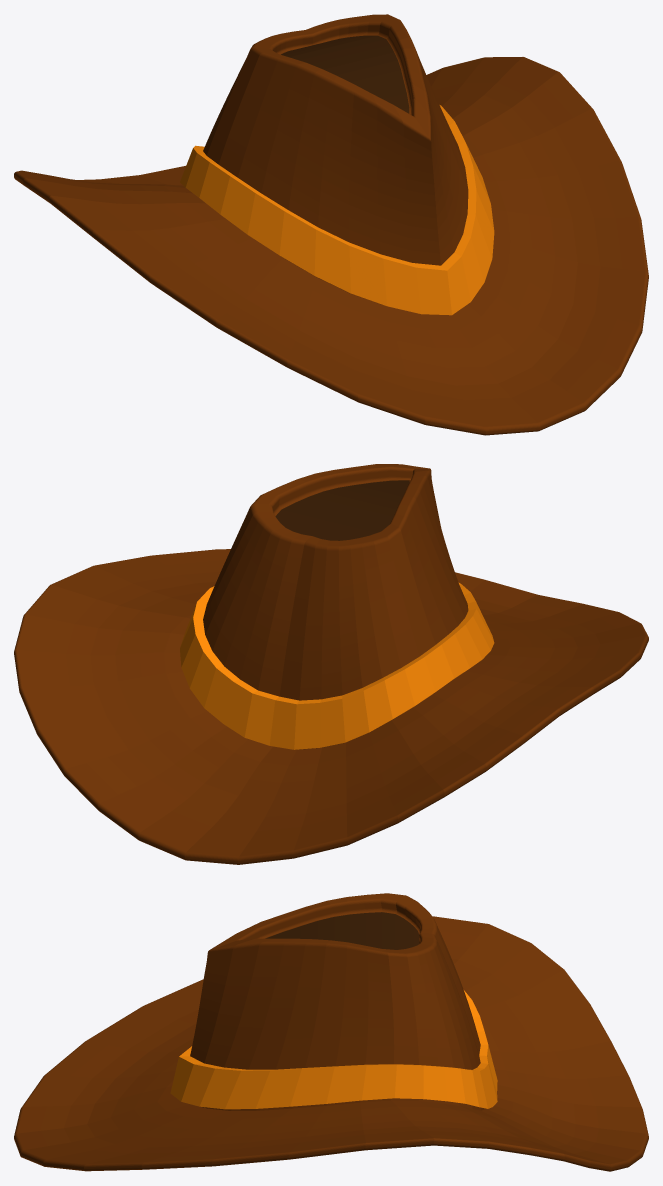
3 renders of one model, top to bottom at view 1: azimuth 30°, elevation 25°; view 2: azimuth 150°, elevation 25°; view 3: azimuth 270°, elevation 25°, orthographic. The views are drawn at different scales.
Visible parts, largest first — view 1: Hut, Hut.001, Hut.002; view 2: Hut, Hut.001, Hut.002; view 3: Hut, Hut.001, Hut.002.
Part boxes in pixels (<box>): Hut: <box>14,14,648,435</box>; Hut.001: <box>180,105,494,315</box>; Hut.002: <box>281,35,409,113</box>; Hut: <box>14,464,648,864</box>; Hut.001: <box>180,582,494,749</box>; Hut.002: <box>275,480,409,540</box>; Hut: <box>14,893,648,1171</box>; Hut.001: <box>170,990,497,1109</box>; Hut.002: <box>265,912,419,949</box>.
Bounding box in the file's own units: 416 × 191 × 500.
